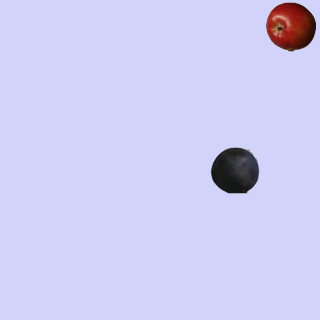Apple Braeburn: (265, 1, 315, 51)
Grape Blue: (209, 144, 259, 194)
